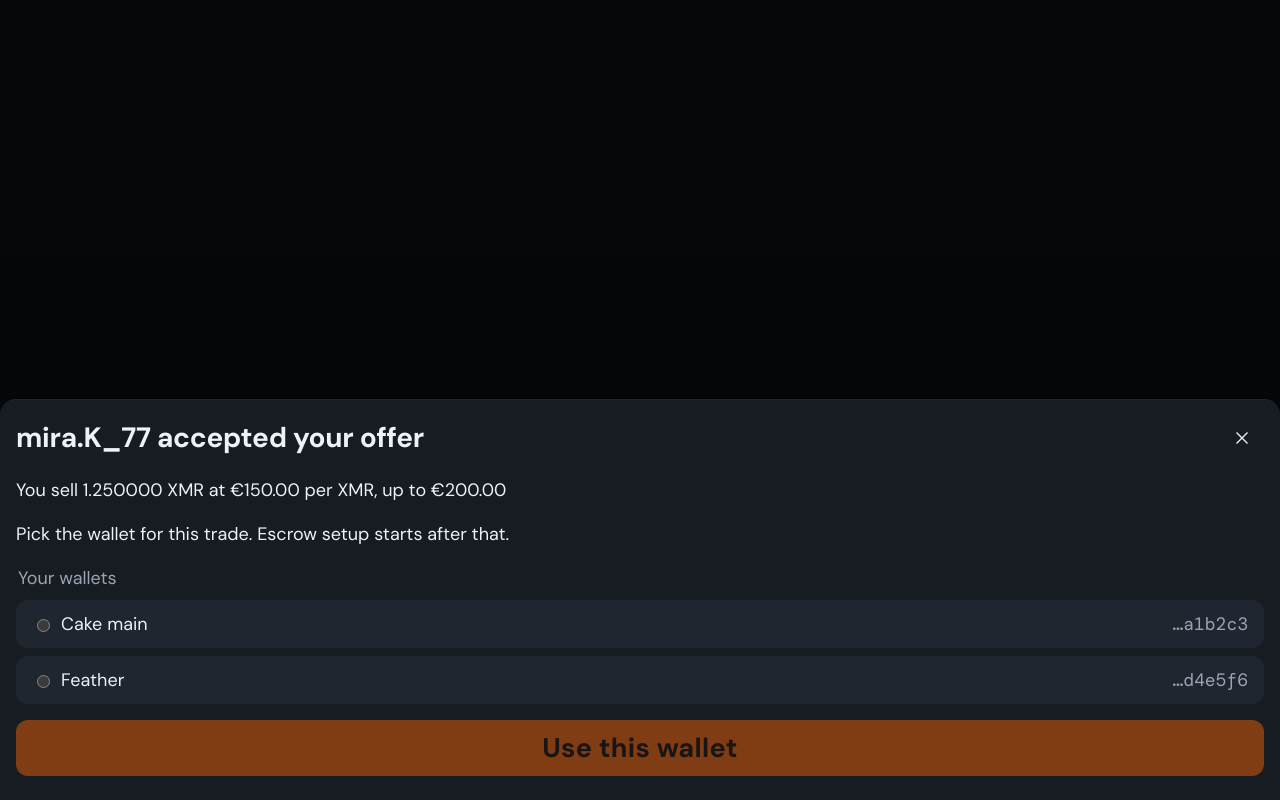
it: AcceptedSheet › shows a refusal and lets the poster try again
Click the radio button labelled "Cake main …a1b2c3" at (44, 626), box x1=37 y1=619 x2=50 y2=632
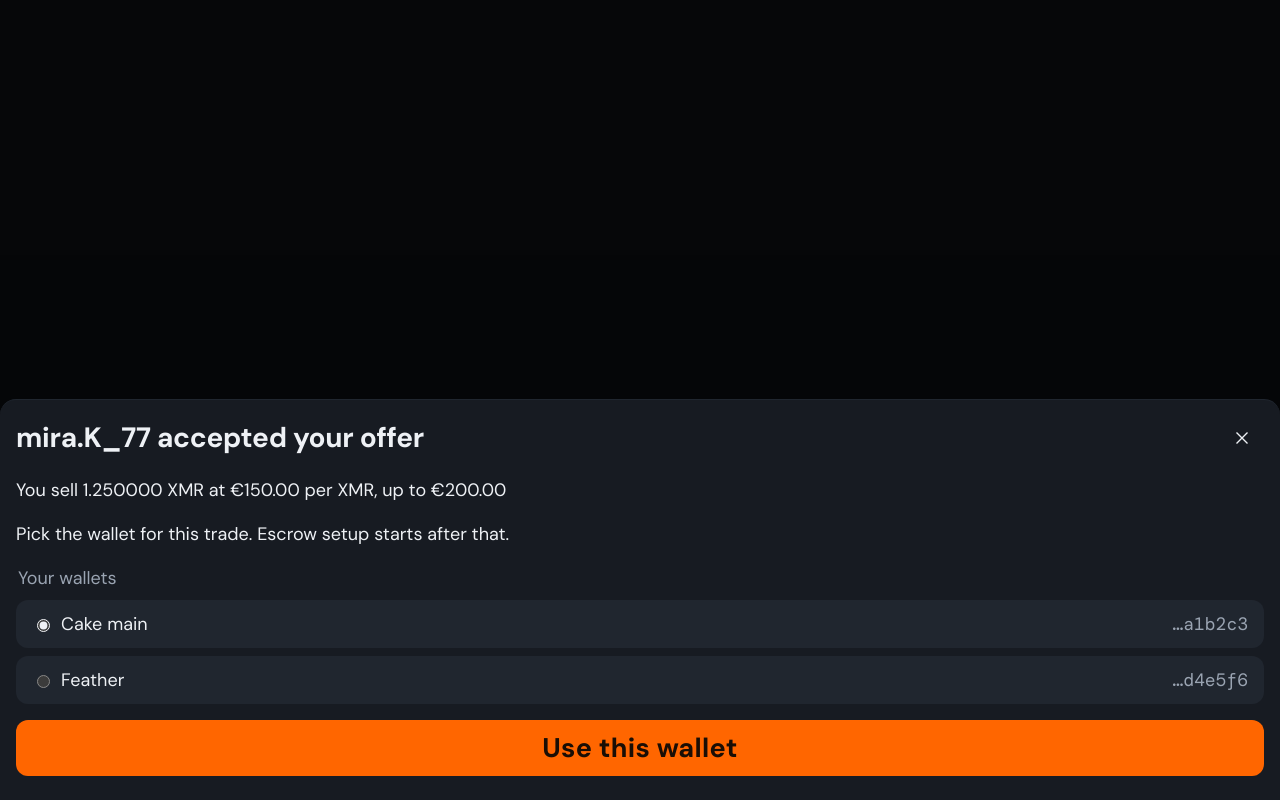
Click the button "Use this wallet" at (640, 748), box x1=16 y1=720 x2=1264 y2=776
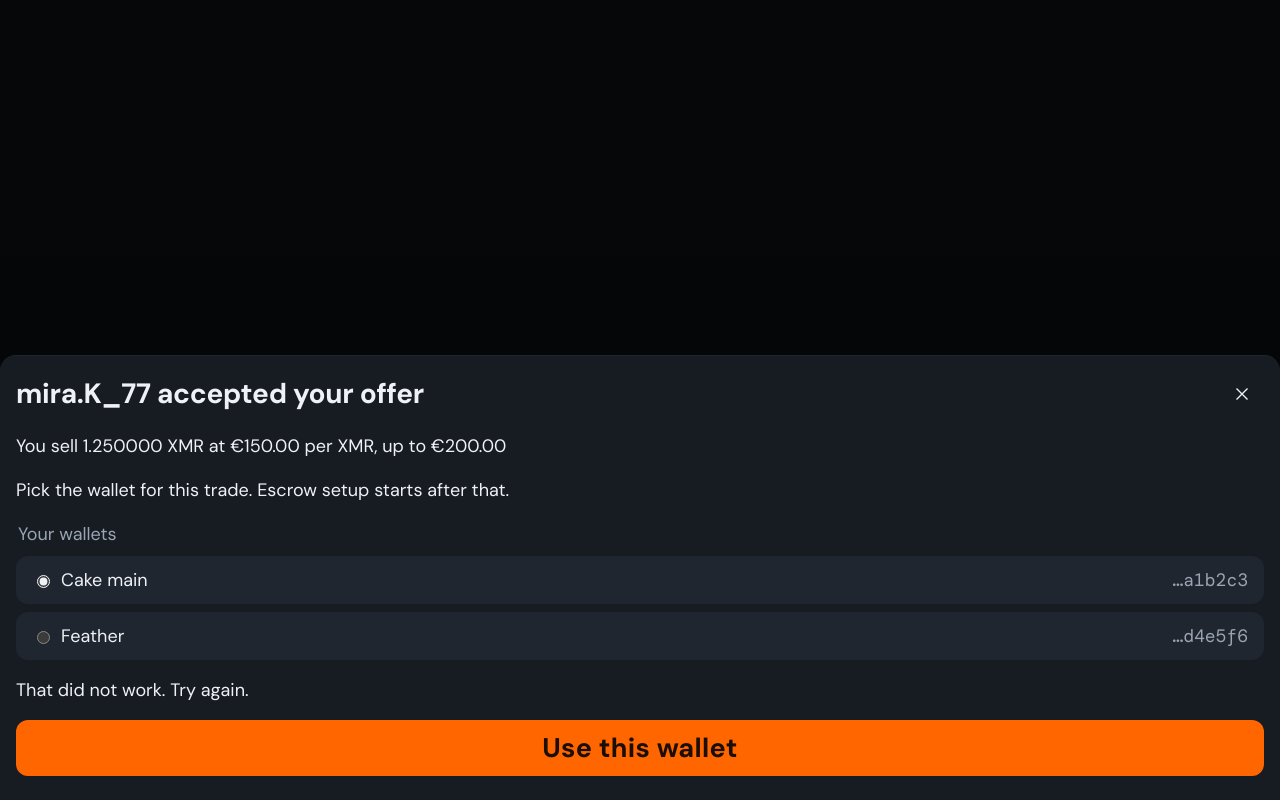
Expected: the message "That did not work. Try again." is shown, x1=16 y1=678 x2=248 y2=702
Click the button "Use this wallet" at (640, 748), box x1=16 y1=720 x2=1264 y2=776
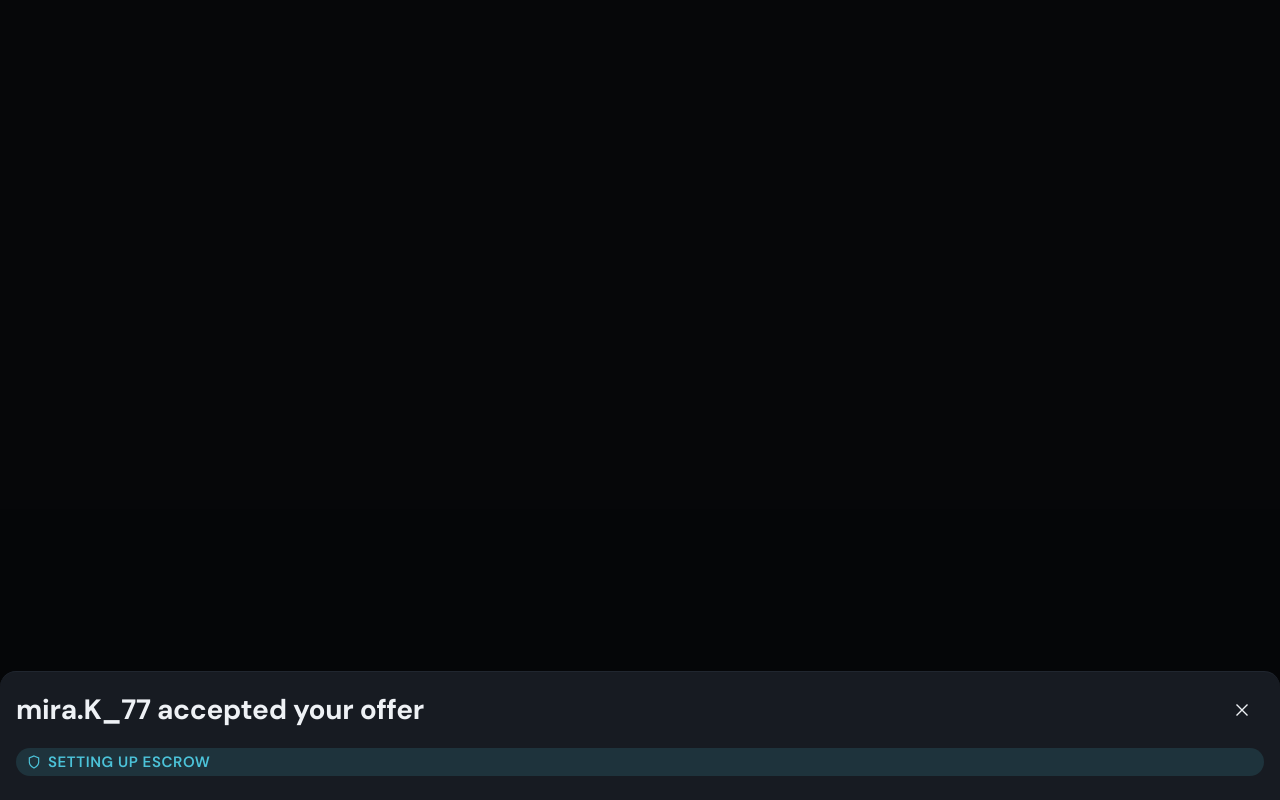
Expected: the dialog shows "Setting up escrow", x1=48 y1=752 x2=210 y2=772
